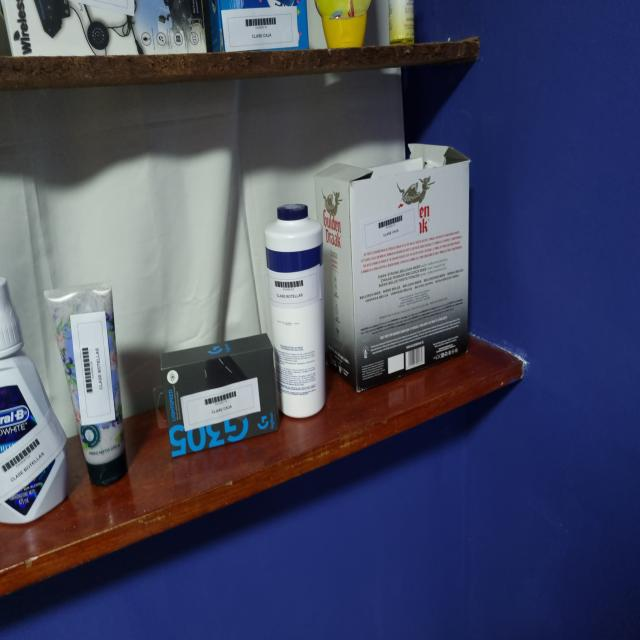botella: (45, 283, 128, 486), (0, 277, 68, 524), (265, 204, 325, 417), (322, 0, 371, 48), (389, 0, 414, 45)
caja: (315, 144, 470, 391), (154, 334, 278, 457), (2, 0, 206, 56), (203, 0, 309, 52)
